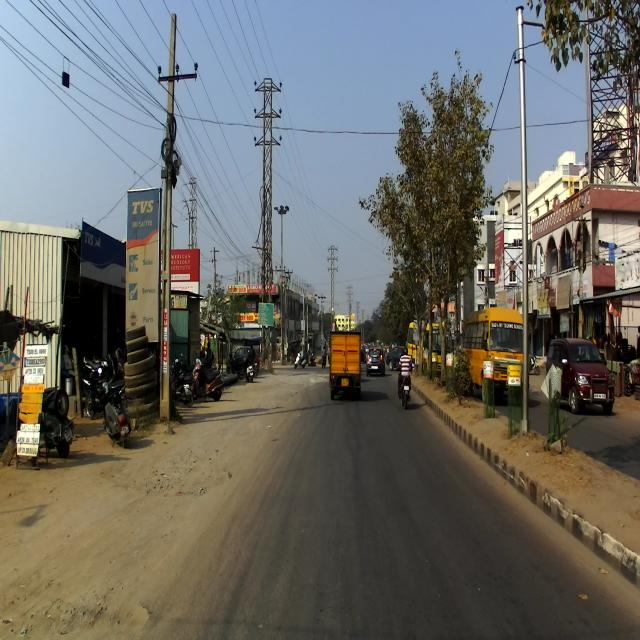electric pole ahead at: (154, 9, 184, 428)
motorcycle ahead at: (94, 364, 133, 453)
truck ahead at: (330, 322, 362, 403)
